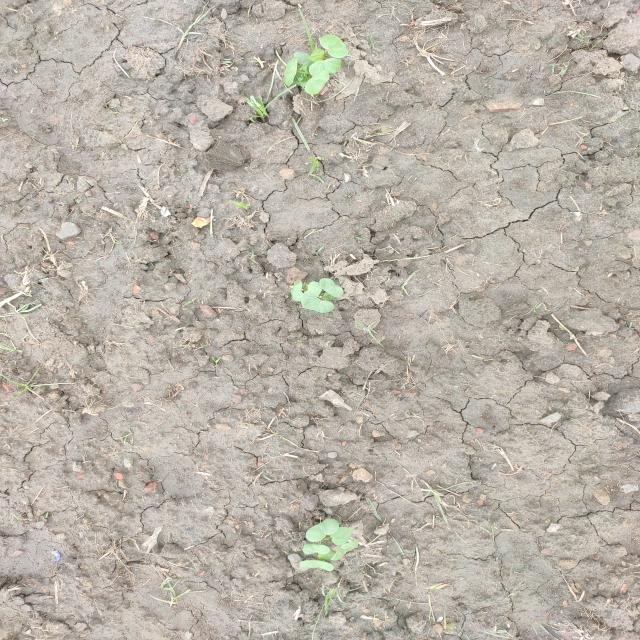seedling_s4: (306, 519, 339, 542), (320, 35, 349, 59), (305, 70, 329, 95), (309, 58, 341, 76), (332, 540, 359, 561), (301, 297, 335, 313), (319, 278, 343, 297), (330, 527, 355, 545), (284, 57, 298, 86), (300, 560, 334, 571), (302, 281, 322, 299), (302, 543, 330, 554), (294, 52, 315, 66), (291, 280, 303, 302), (308, 48, 324, 62), (318, 550, 336, 561), (297, 71, 307, 83), (299, 63, 309, 74), (323, 292, 335, 301)
